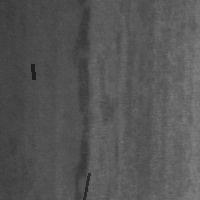inclusion: (69, 2, 115, 197), (82, 171, 91, 200), (30, 62, 35, 81)
